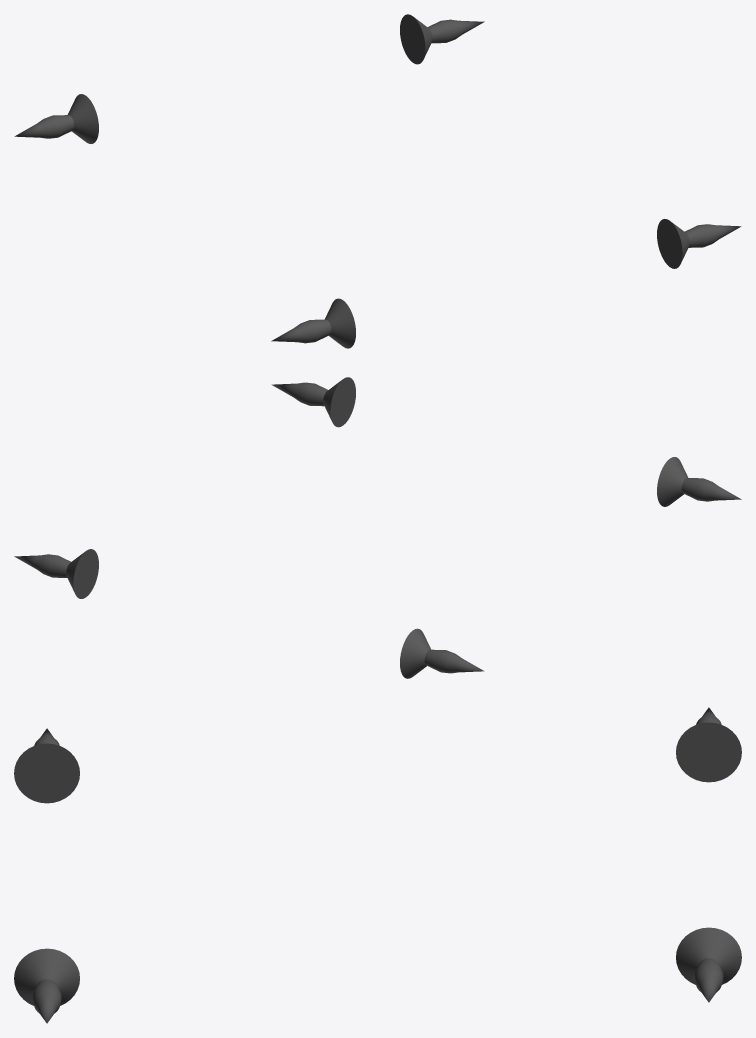
Rendered from tirespike.fbx.
3 views of the same model, one above another, from view 1: azimuth 30°, elevation 25°; view 2: azimuth 150°, elevation 25°; view 3: azimuth 270°, elevation 25° (orthographic). The views are drawn at different scales.
Parts seen in each view (by area): view 1: Cylinder.005; view 2: Cylinder.005; view 3: Cylinder.005.
Boxes of the visible parts, left/top/right/bottom form: Cylinder.005: left=14, top=14, right=741, bottom=348; Cylinder.005: left=14, top=377, right=741, bottom=678; Cylinder.005: left=14, top=707, right=741, bottom=1023.
Bounding box in the file's own units: 299 × 38.12 × 311.
1 material, 1 textured.
